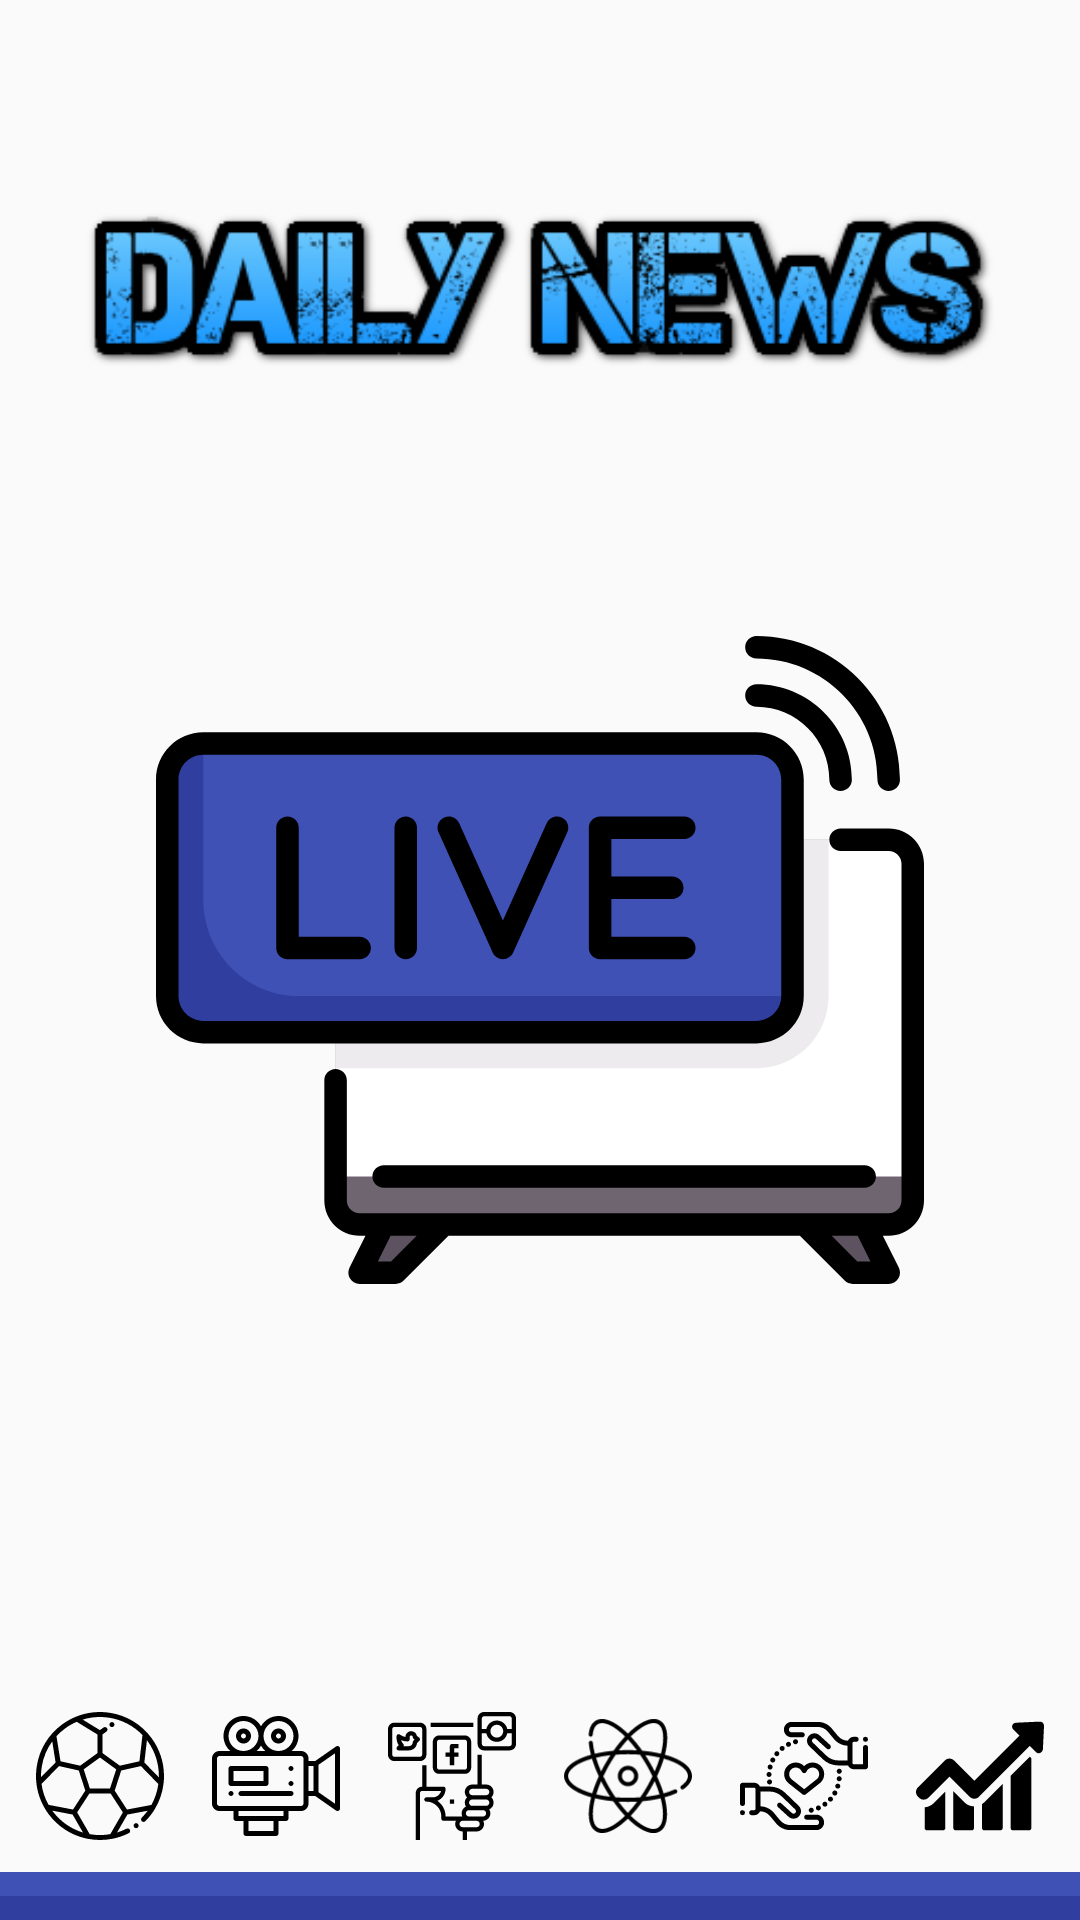

Named icons in this screenshot (1080px x 1920px) and their centers, [x,y]:
business: [980,1776]
entertainment: [276,1776]
health: [804,1776]
science: [628,1776]
sports: [100,1776]
